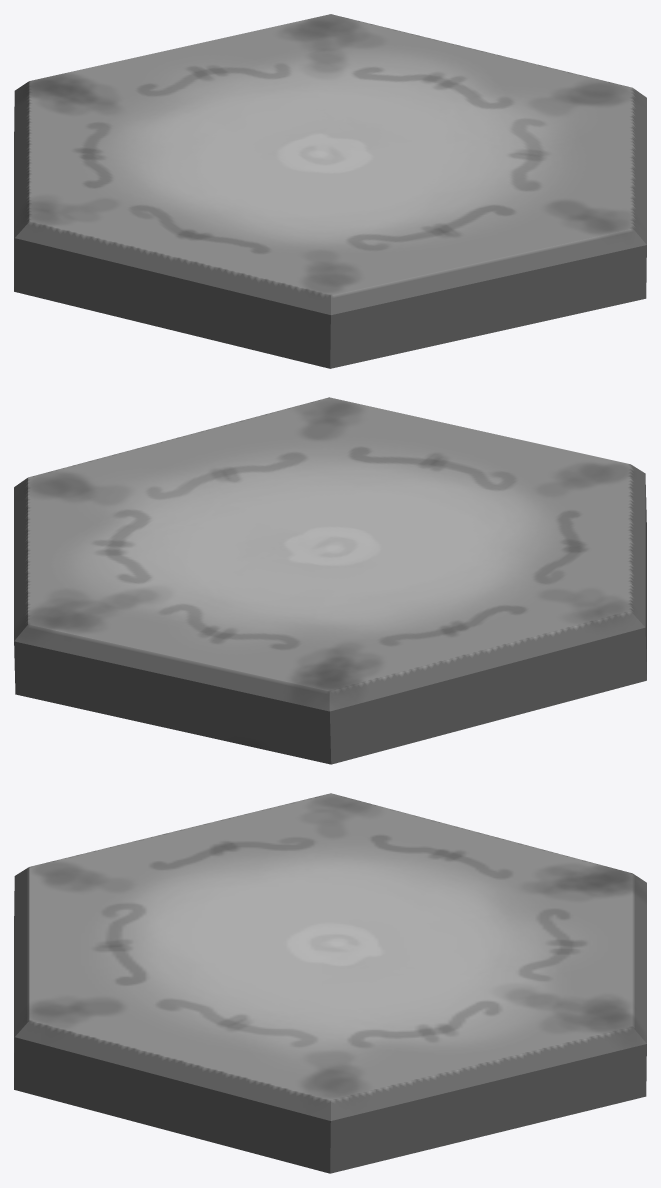
The model's file is hexagon.glb.
3 renders of one model, top to bottom at view 1: azimuth 30°, elevation 25°; view 2: azimuth 150°, elevation 25°; view 3: azimuth 270°, elevation 25°, orthographic.
Parts seen in each view (by area): view 1: Hexagon; view 2: Hexagon; view 3: Hexagon.
Part boxes in pixels (box(x1,y1,x2,y2)): Hexagon: box(14, 14, 646, 368); Hexagon: box(14, 397, 646, 764); Hexagon: box(14, 793, 646, 1173).
Size of the model in its own units: 2 by 0.2408 by 1.73.
Materials: 1 (1 with a texture image).
